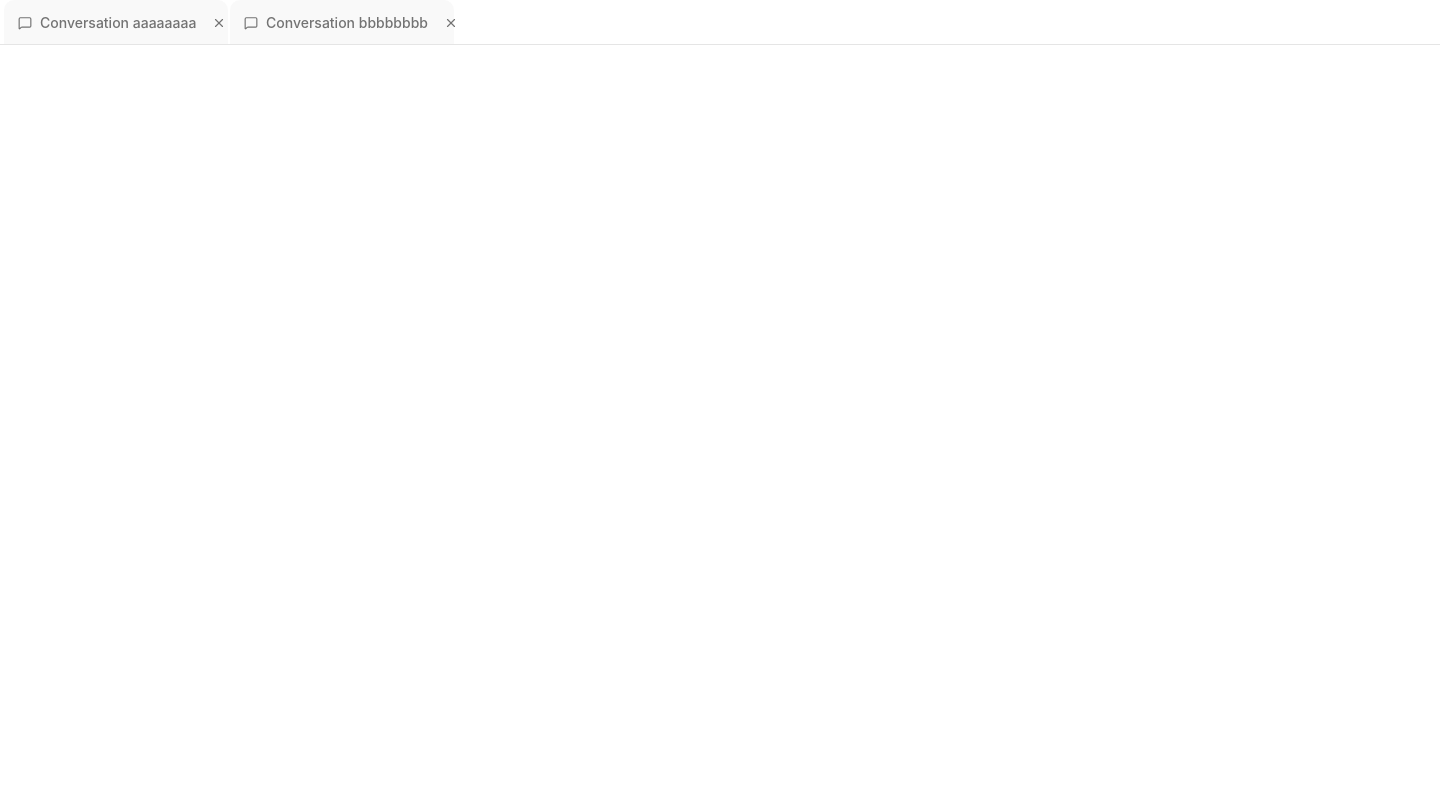
Scenario: ConversationList › does not archive when the dialog is cancelled
Step 1. Click the button named "Archive conversation aaaaaaaa" → click(219, 23), box [201,1,237,45]
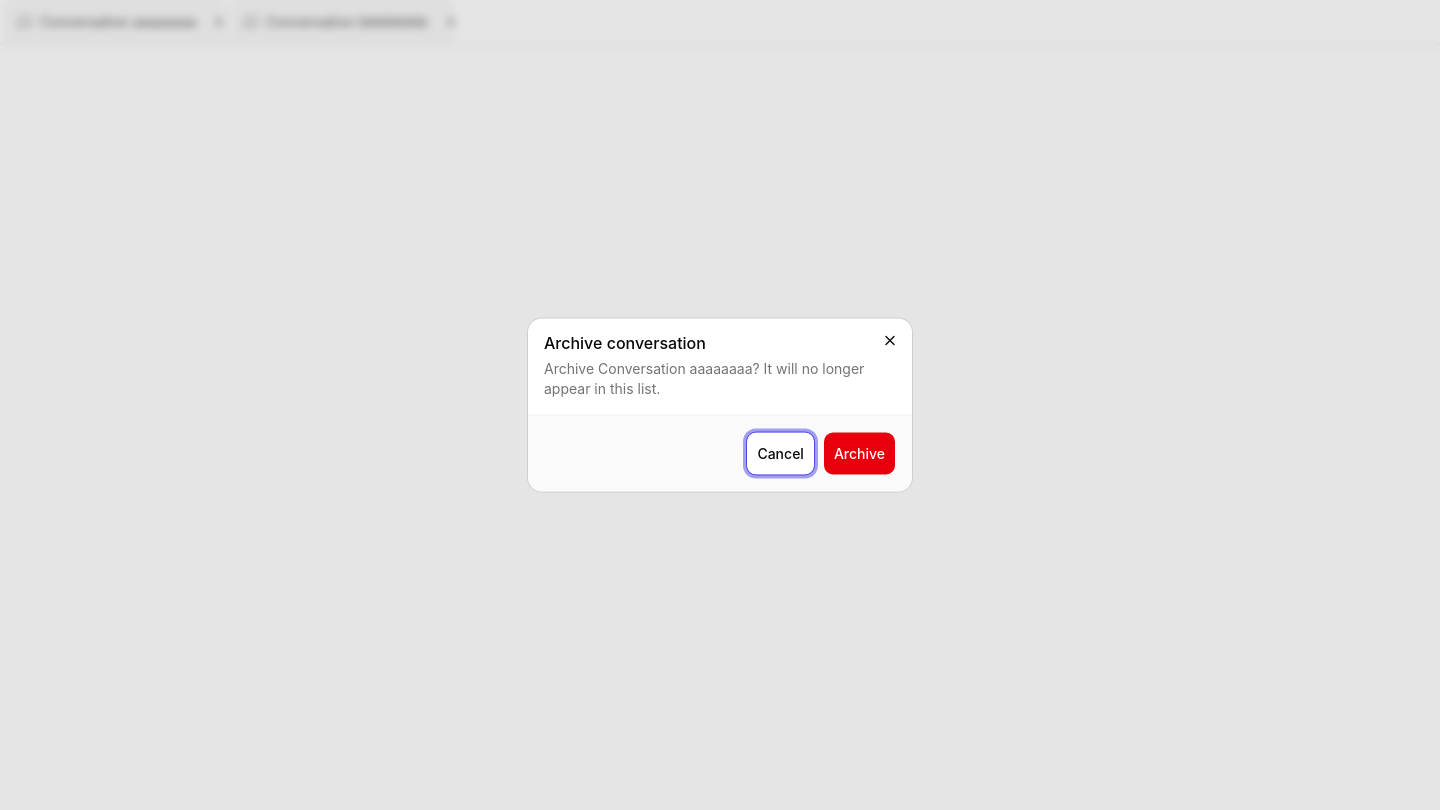
Step 2. Click the button "Cancel" → click(781, 454), box [746,432,815,476]
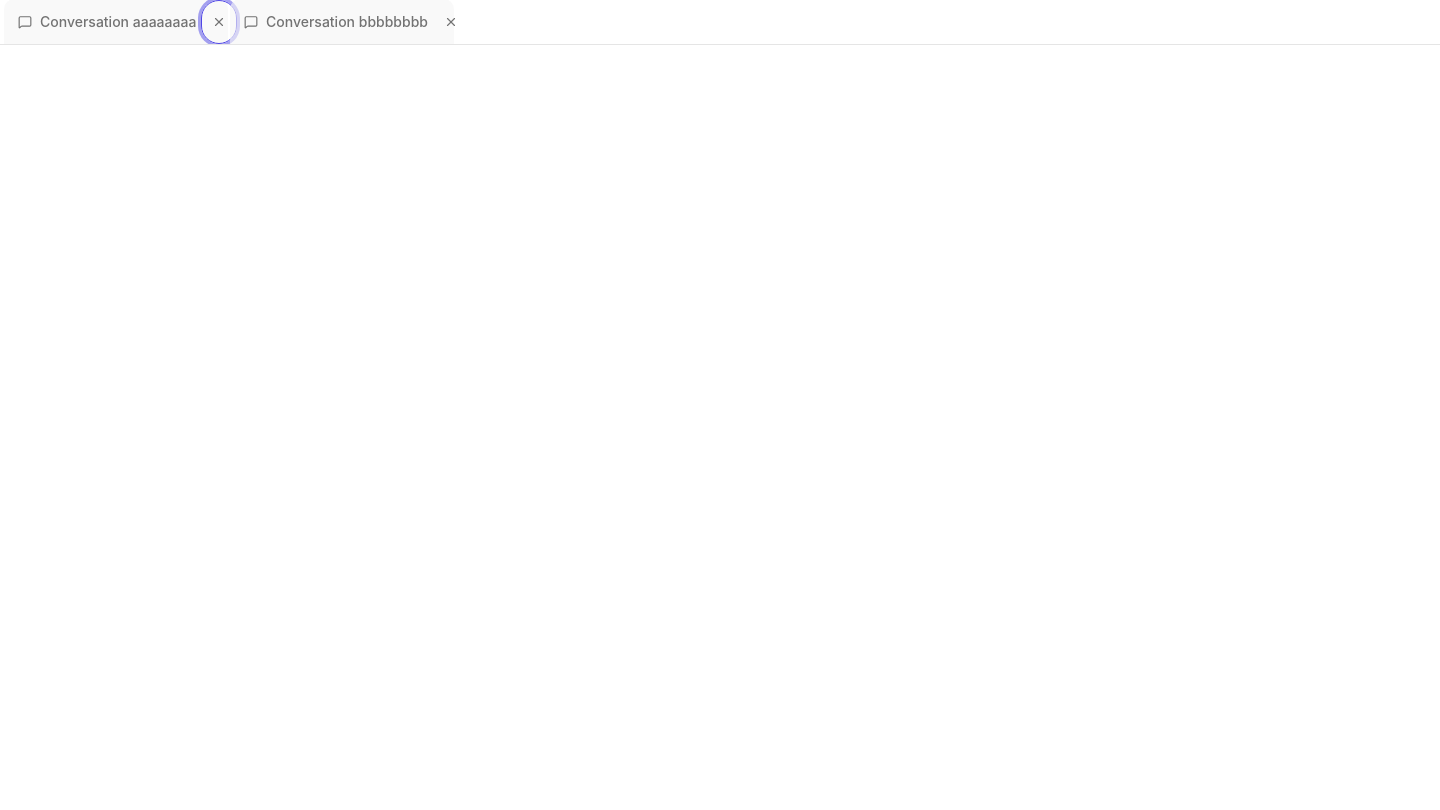
Check: the dialog is gone
